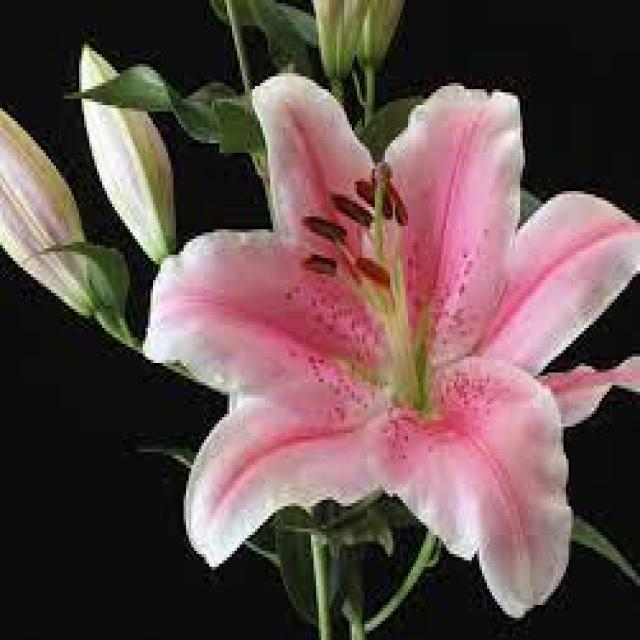lily: (129, 57, 640, 640)
